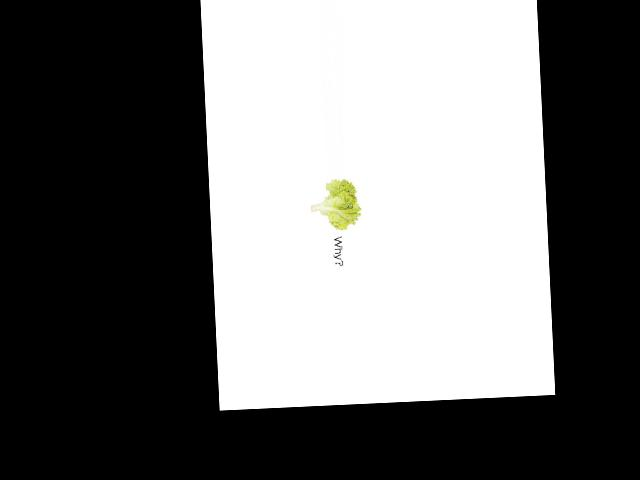lettuce: (308, 176, 362, 236)
